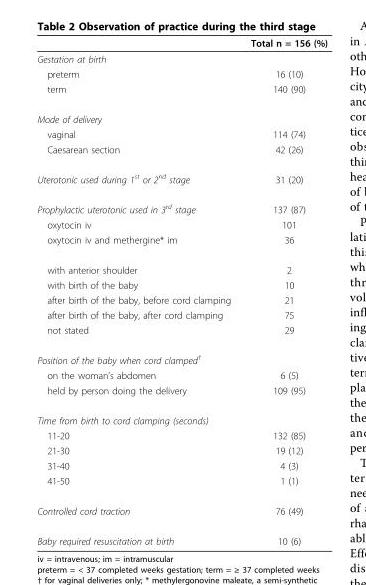table: (36, 36, 326, 546)
table column: (36, 36, 240, 546), (240, 36, 326, 546)
table column header: (36, 36, 326, 50)
table projected row header: (36, 103, 326, 126), (36, 344, 326, 367), (36, 405, 326, 427), (36, 50, 326, 66)
table row: (36, 163, 326, 193), (36, 495, 326, 525), (36, 103, 326, 126), (36, 193, 326, 216), (36, 231, 326, 254), (36, 254, 326, 277), (36, 344, 326, 367), (36, 382, 326, 405), (36, 472, 326, 495), (36, 81, 326, 103), (36, 141, 326, 163), (36, 322, 326, 344), (36, 405, 326, 427), (36, 525, 326, 546), (36, 50, 326, 66), (36, 66, 326, 81), (36, 126, 326, 141), (36, 216, 326, 231), (36, 277, 326, 292), (36, 292, 326, 307), (36, 307, 326, 322), (36, 367, 326, 382), (36, 427, 326, 442), (36, 442, 326, 457), (36, 457, 326, 472), (36, 36, 326, 50)
